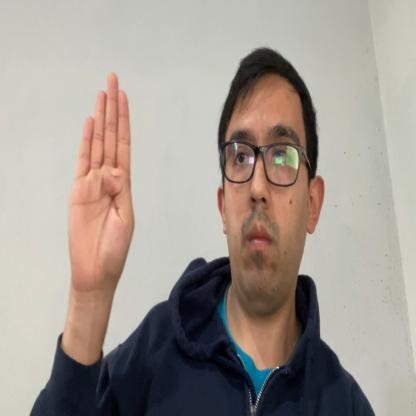B: (68, 70, 134, 302)
